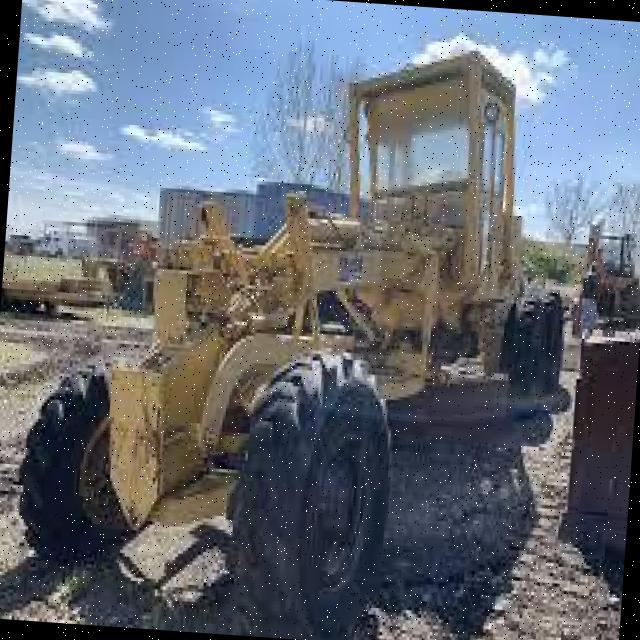Grader: (10, 13, 601, 640)
